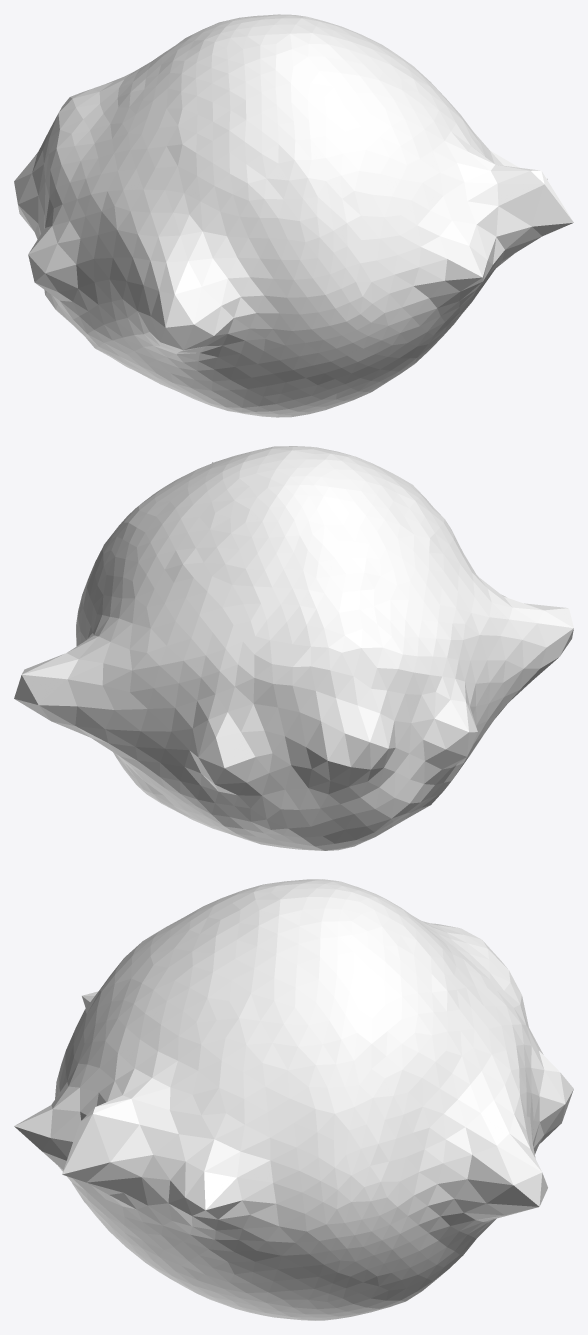
Rendered from plane_rotZ45[0.3,0.0,0.3]s1[-1.7,0.0,-1.7]._00030.obj.
The picture shows the model from 3 angles, top to bottom: view 1: azimuth 30°, elevation 25°; view 2: azimuth 150°, elevation 25°; view 3: azimuth 270°, elevation 25°; orthographic projection. The views are drawn at different scales.
Size of the model in its own units: 1.05 by 0.8429 by 1.05.
Materials: 1 (1 with a texture image).
